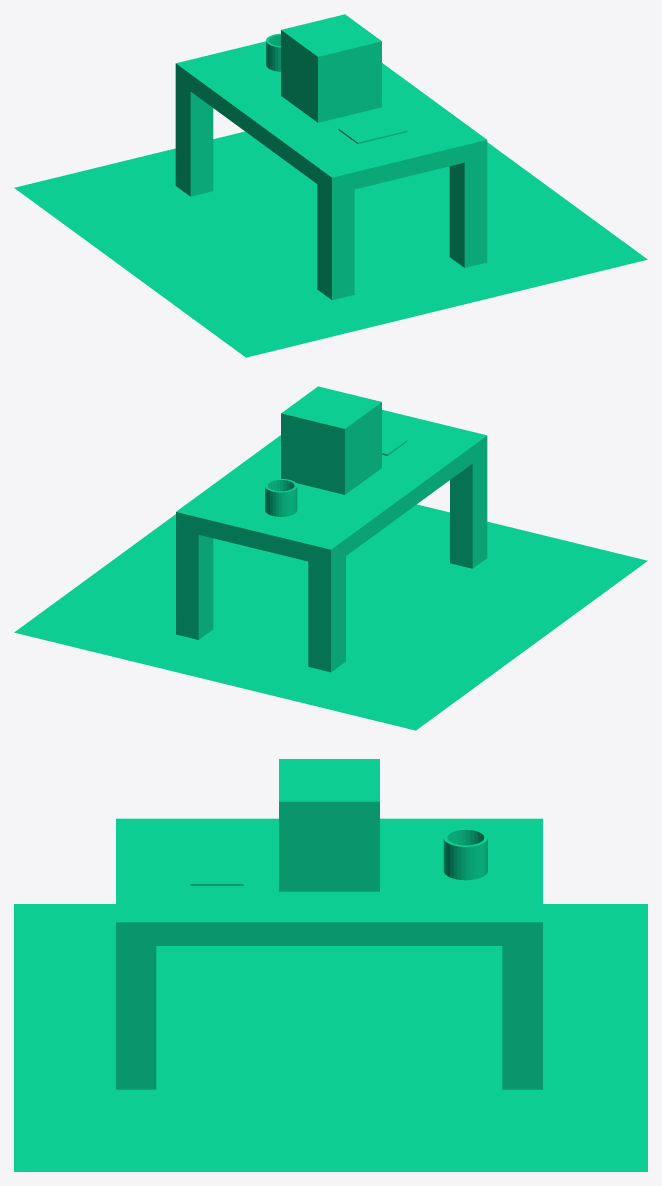
Rendered from GDS213 - Trapped.fbx.
3 views of the same model, one above another, from view 1: azimuth 30°, elevation 25°; view 2: azimuth 150°, elevation 25°; view 3: azimuth 270°, elevation 25° (orthographic). The views are drawn at different scales.
Visible parts, largest first — view 1: Plane, Cube, Cube.001, Plane.001, Cylinder; view 2: Plane, Cube, Cube.001, Cylinder; view 3: Plane, Cube, Cube.001, Cylinder, Plane.001.
Part boxes in pixels (x1,y1,x2,y2): Plane: (14, 131, 647, 357); Cube: (175, 41, 487, 300); Cube.001: (281, 14, 381, 122); Plane.001: (338, 116, 407, 143); Cylinder: (266, 33, 280, 71); Plane: (14, 504, 647, 730); Cube: (176, 409, 487, 672); Cube.001: (281, 386, 381, 494); Cylinder: (265, 479, 297, 516); Plane: (14, 904, 647, 1171); Cube: (116, 818, 542, 1089); Cube.001: (279, 759, 379, 891); Cylinder: (443, 828, 487, 880); Plane.001: (190, 851, 243, 885).
Size of the model in its own units: 1000 by 450 by 1000.
